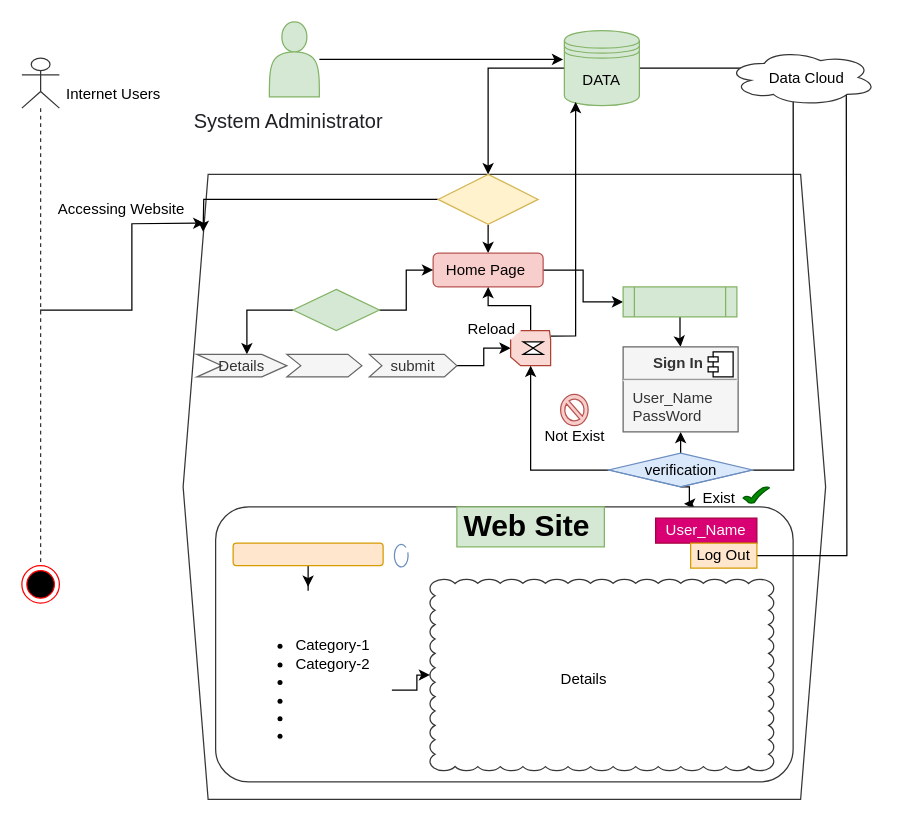
The diagram is 899 pixels wide and 821 high, and some of its shapes have lost their labels. Each missing label, with the centre of its shape:
"Log In" belongs at (679,301).
"Search ...." belongs at (307,554).
"Sign Up" belongs at (335,309).
"Verify" belongs at (324,365).
"Website" belongs at (487,198).
